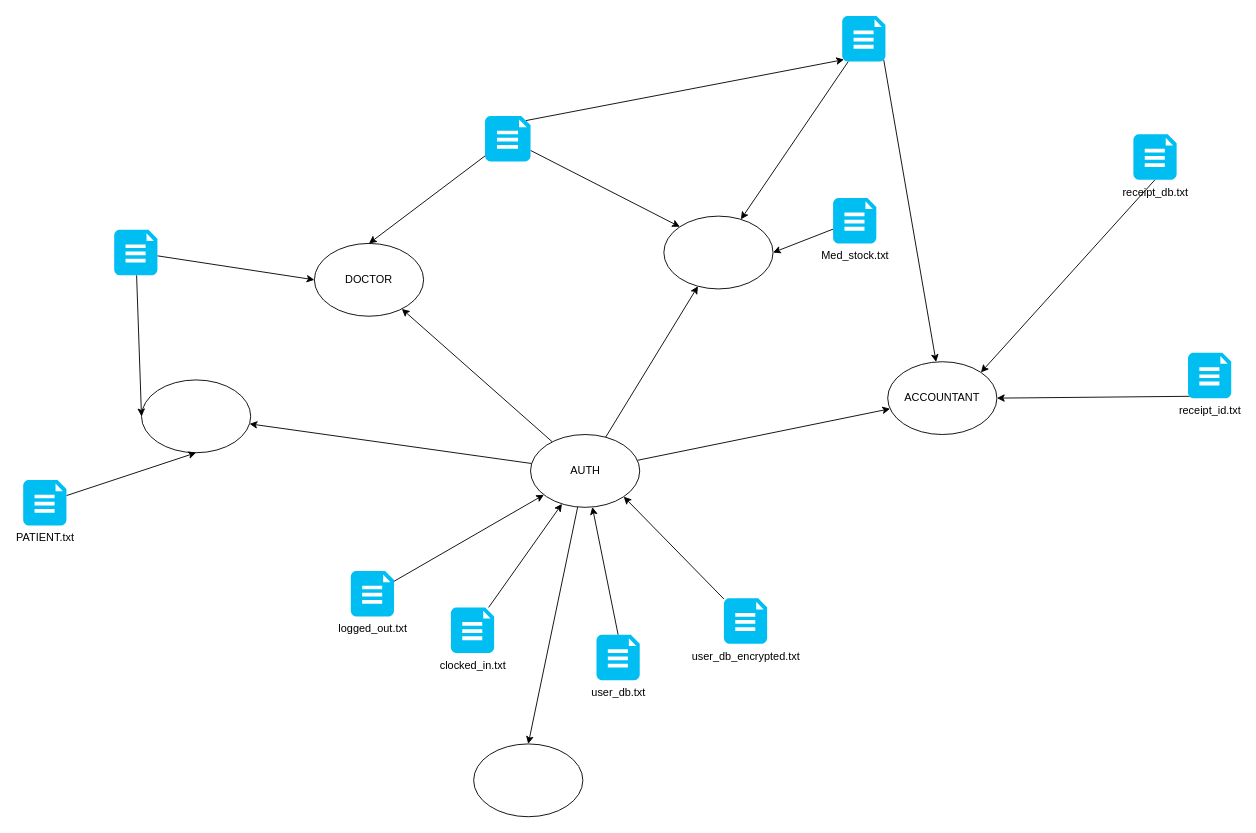
The diagram is 1256 pixels wide and 833 high, and some of its shapes have lost their labels. The shapes that lost their labels are listed below. From the top down, each one's centre as x and y in pixels, then its label:
At point (863, 38): "patient_billing_record.txt".
At point (507, 138): "PATIENT_DIAGNOSIS.txt".
At point (135, 252): "APPOINTMENT.txt".
At point (718, 252): "PHARMACIST".
At point (196, 416): "RECEPTIONIST".
At point (528, 780): "ADMIN".
